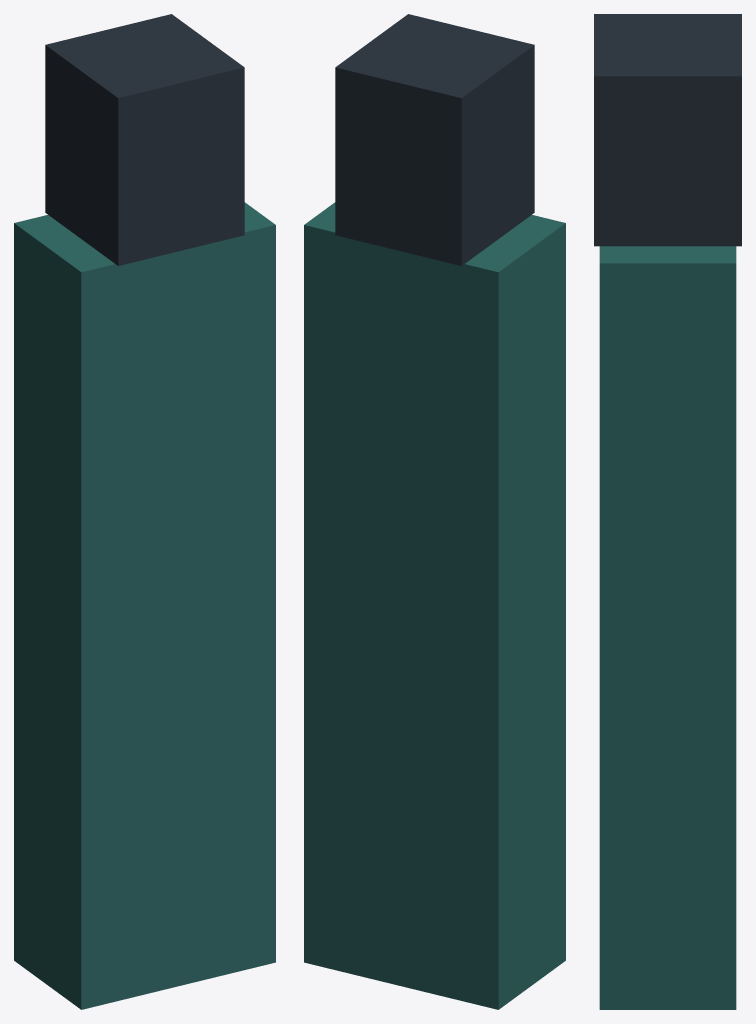
The model's file is life_person_d_far.glb.
3 views of the same model, side by side, from view 1: azimuth 30°, elevation 25°; view 2: azimuth 150°, elevation 25°; view 3: azimuth 270°, elevation 25° (orthographic).
Parts seen in each view (by area): view 1: life_person_d_far; view 2: life_person_d_far; view 3: life_person_d_far.
Boxes of the visible parts, x1,y1,x2,y2 form: life_person_d_far: (14,14,275,1009); life_person_d_far: (304,14,565,1009); life_person_d_far: (594,14,741,1009).
Size of the model in its own units: 0.4 by 1.78 by 0.26.
